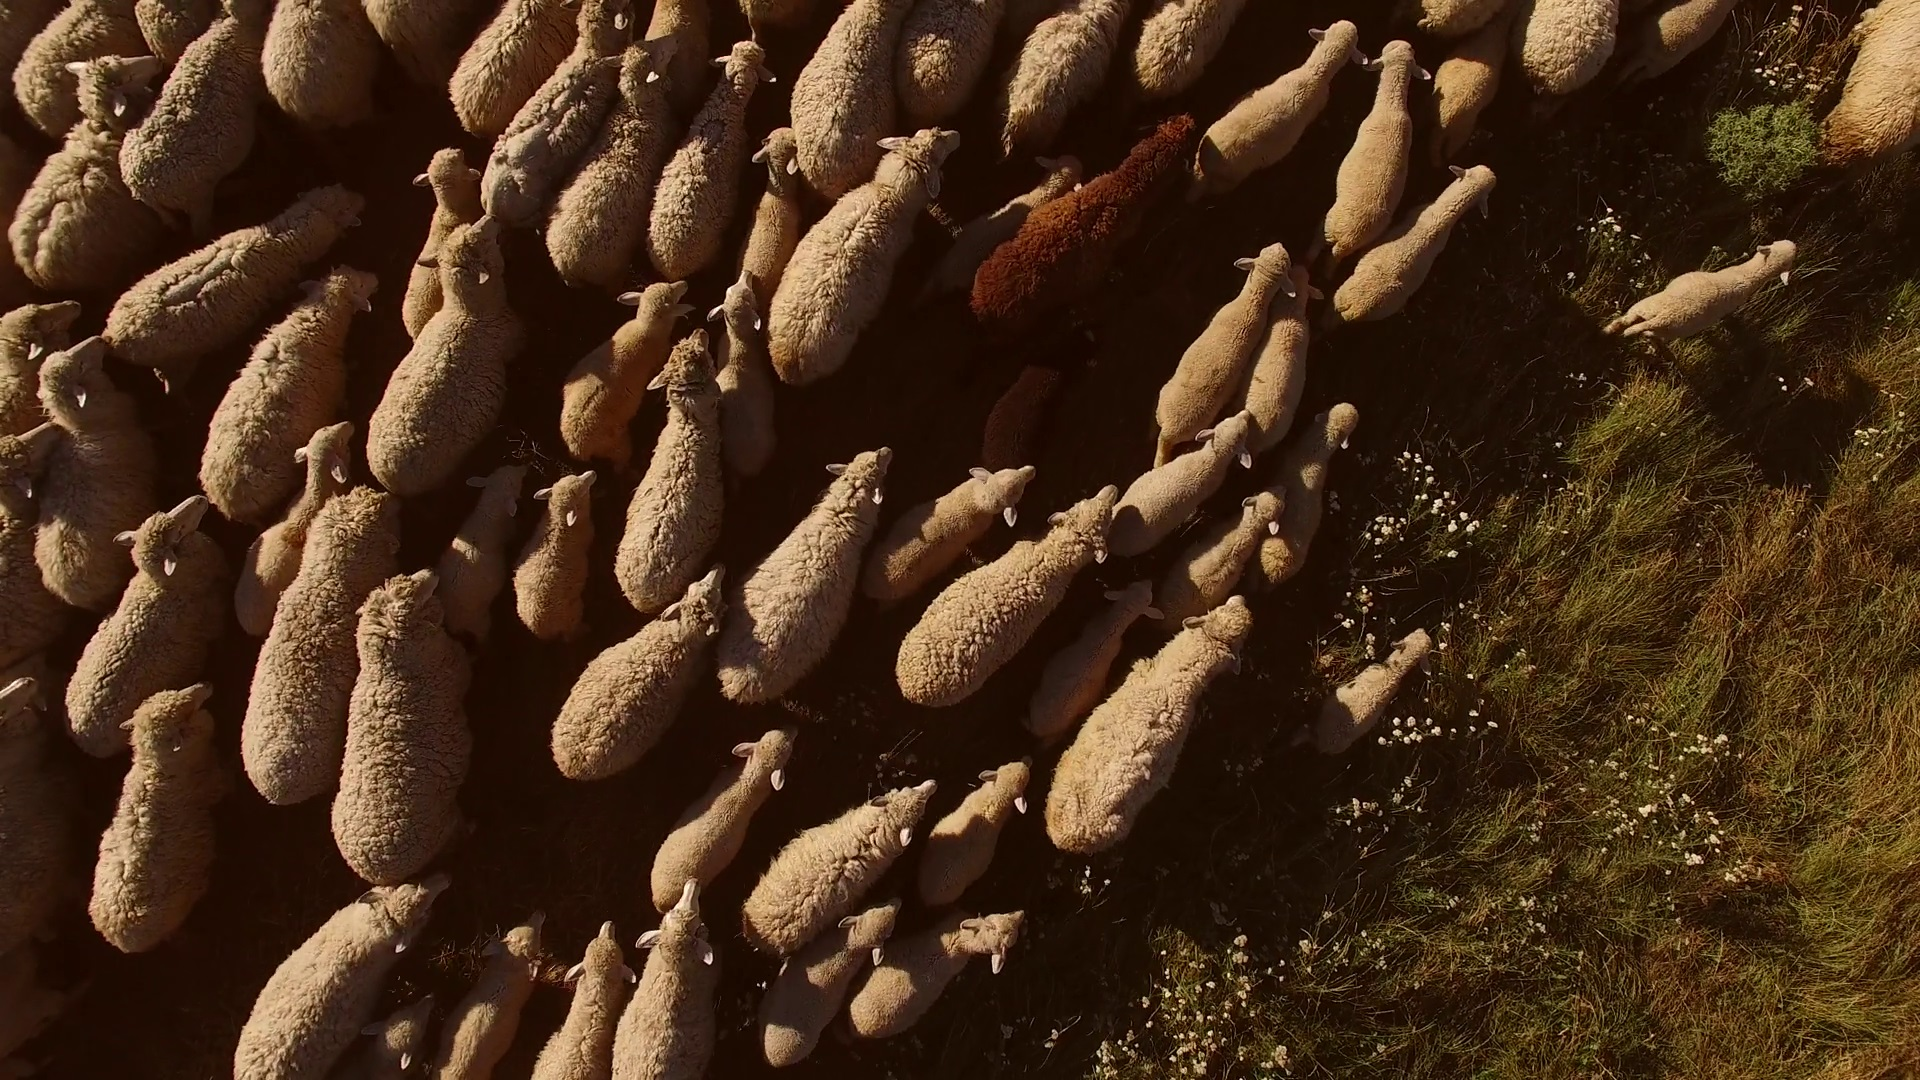sheep: (227, 539, 500, 903), (467, 545, 754, 825), (170, 483, 400, 820), (335, 152, 543, 520), (889, 452, 1154, 733), (167, 255, 384, 589), (1025, 589, 1273, 880), (530, 328, 746, 640), (98, 166, 381, 404), (195, 855, 440, 1080), (711, 460, 930, 690), (49, 7, 284, 220), (574, 1, 746, 258), (1605, 185, 1844, 371), (73, 705, 262, 934), (1284, 112, 1466, 344), (1302, 1, 1449, 266), (1092, 249, 1286, 447), (359, 220, 502, 476), (822, 901, 1027, 1071), (781, 82, 905, 357), (732, 767, 905, 960), (835, 736, 1000, 934), (793, 856, 935, 1080), (524, 872, 661, 1080), (812, 1, 963, 185), (378, 131, 616, 233), (585, 862, 705, 1039), (1233, 1, 1332, 206), (535, 1, 630, 214), (1004, 1, 1138, 138), (446, 887, 539, 1080), (749, 928, 866, 1073)
